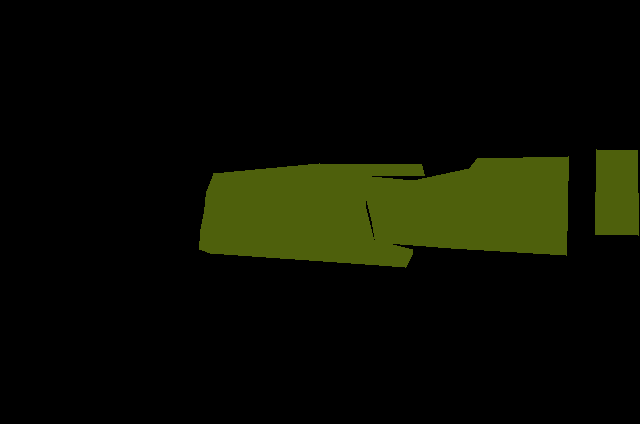Train: (360, 149, 639, 255), (199, 163, 424, 268)
